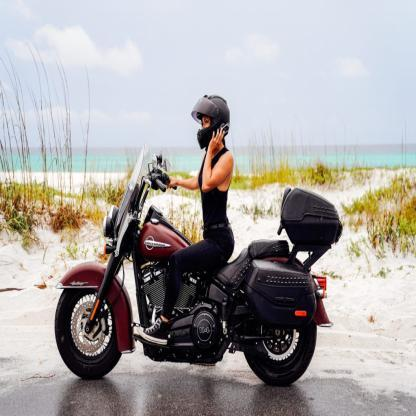helmet: (191, 94, 231, 150)
